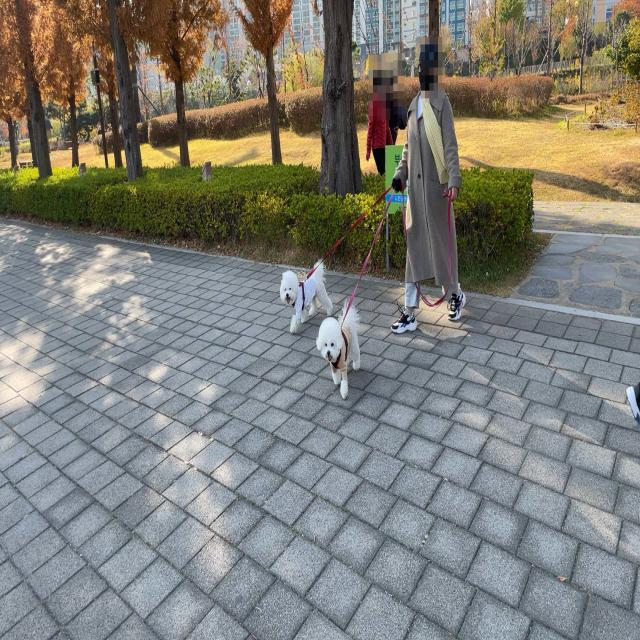Leashed_Dog: (316, 174, 412, 400), (280, 175, 412, 336)
